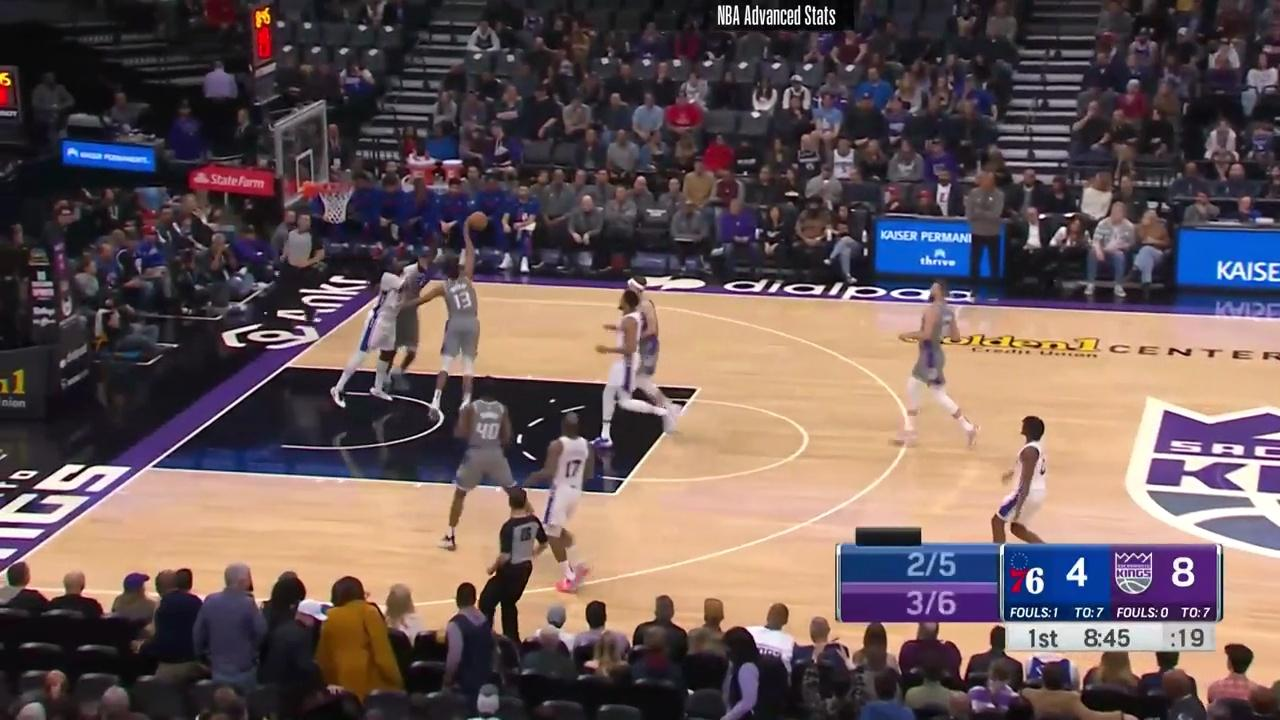Backboard: (270, 97, 329, 217)
Ball: (467, 213, 489, 232)
Basket: (316, 174, 356, 228)
Person: (445, 381, 539, 555), (336, 251, 437, 408), (895, 278, 985, 449), (536, 410, 601, 594), (418, 245, 485, 419), (628, 267, 687, 432), (587, 291, 647, 443), (990, 411, 1052, 547)
Referee: (483, 490, 545, 630), (278, 205, 331, 328)
Shot Clock: (237, 0, 284, 84), (2, 63, 28, 128)
